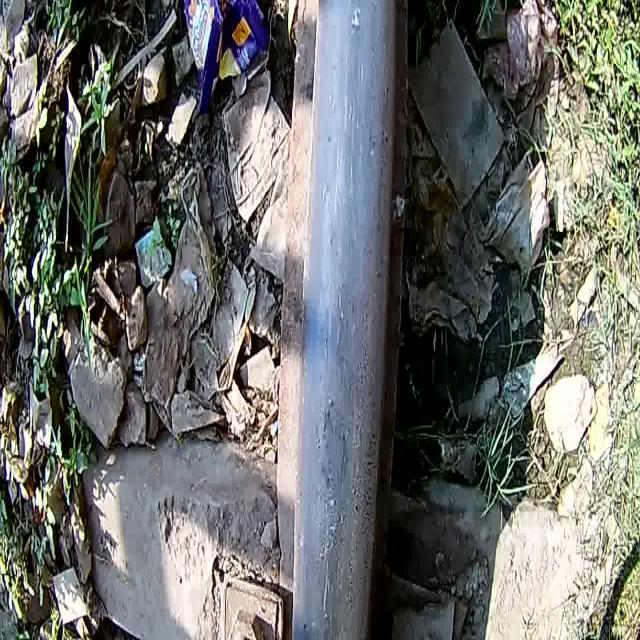Squats: (280, 389, 393, 514)
